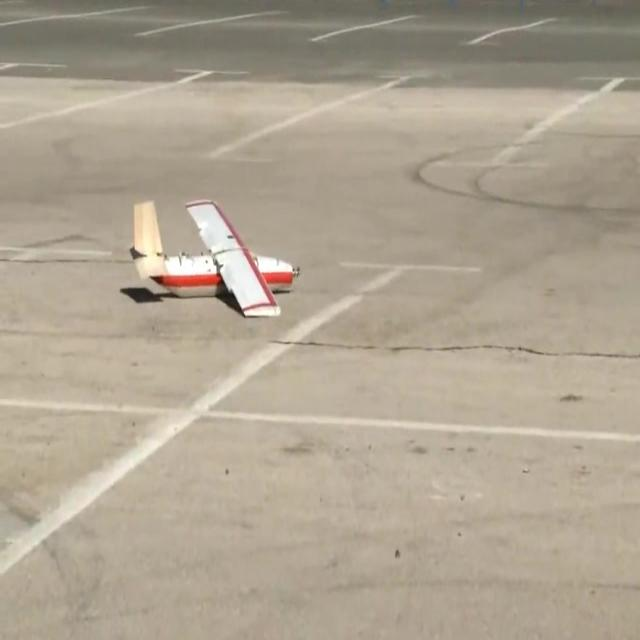iha: (128, 231, 302, 292)
